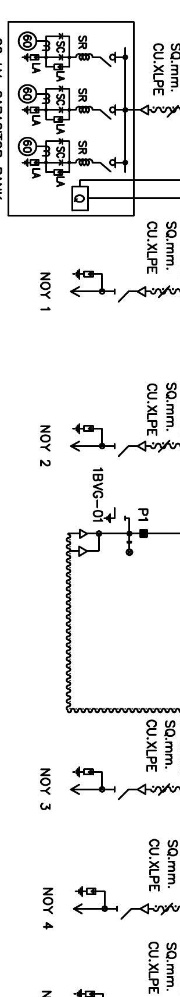22_cap_bank: (7, 20, 135, 217)
22_ds_la_out: (69, 766, 129, 801), (70, 268, 129, 303), (70, 423, 129, 458), (72, 886, 131, 921)
22_gs: (103, 506, 126, 524)
22_ll: (125, 540, 134, 557)
Q: (71, 185, 89, 212)
terminator_double: (78, 528, 100, 558)
terminator_single: (136, 784, 147, 795), (140, 104, 150, 116), (137, 440, 147, 452), (139, 903, 149, 915), (137, 286, 147, 297)
